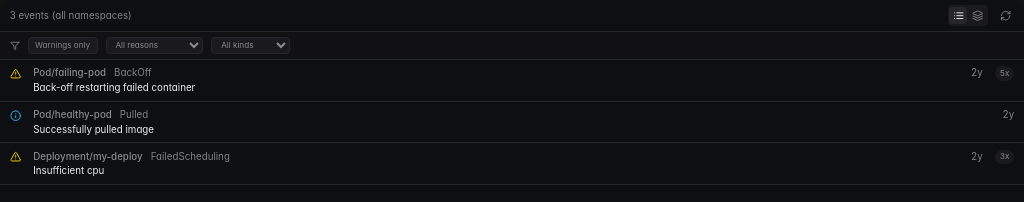
EventsTab › filters to warnings only when toggle is clicked
Expected: the text "Pod/healthy-pod" is shown, [33, 108, 112, 121]
Click the button with test id "warnings-only-toggle" at [62, 45], box [28, 37, 98, 54]
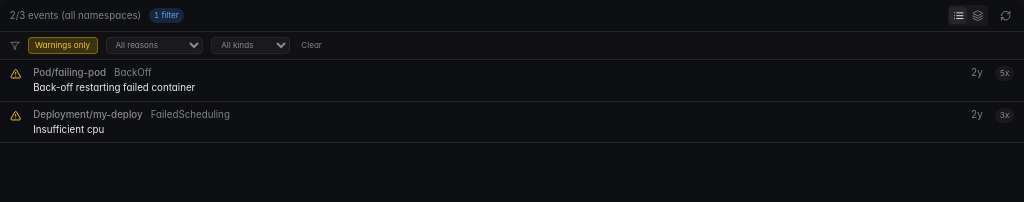
Expected: the text "Pod/failing-pod" is shown, [33, 66, 106, 79]
Expected: the text "Pod/healthy-pod" is gone
Expected: the text "2/3 events (all namespaces)" is shown, [10, 9, 141, 22]
